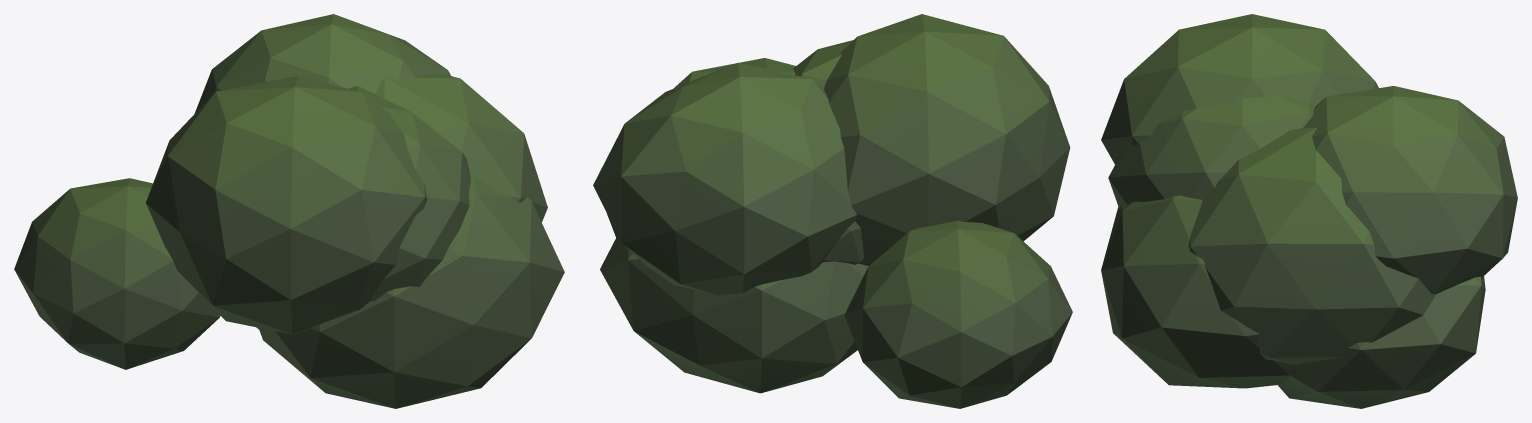
File: busch_gross.glb
3 views of the same model, side by side, from view 1: azimuth 30°, elevation 25°; view 2: azimuth 150°, elevation 25°; view 3: azimuth 270°, elevation 25° (orthographic). The views are drawn at different scales.
Visible parts, largest first — view 1: busch_gross; view 2: busch_gross; view 3: busch_gross.
Boxes of the visible parts, <box> form: busch_gross: <box>14,14,564,408</box>; busch_gross: <box>593,14,1072,408</box>; busch_gross: <box>1101,14,1517,408</box>.
Size of the model in its own units: 3.37 by 2.4 by 2.86.
